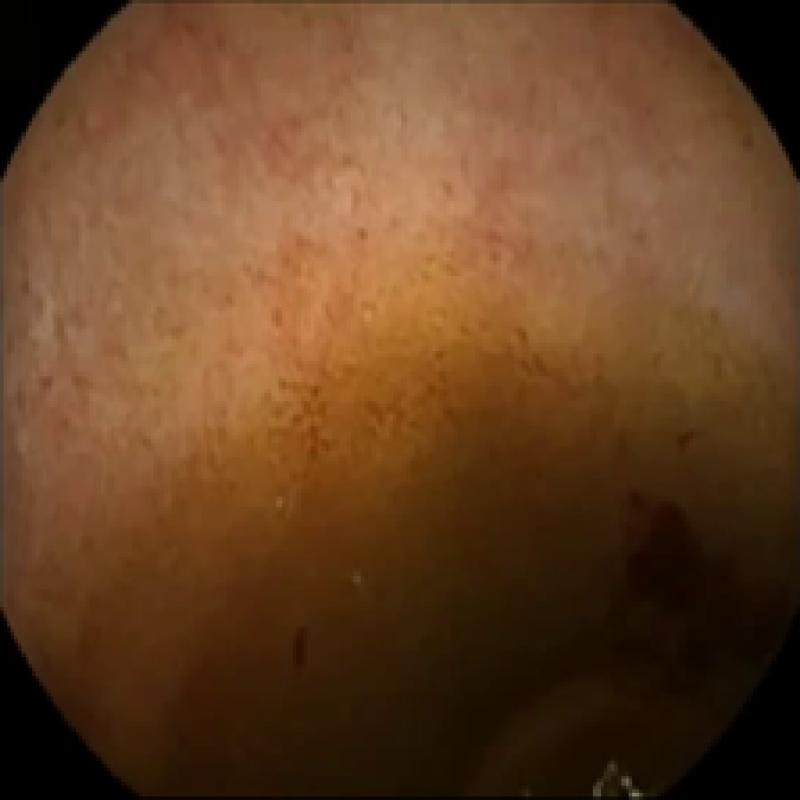bleeding: (564, 492, 722, 667), (288, 620, 316, 668), (672, 425, 704, 450)
